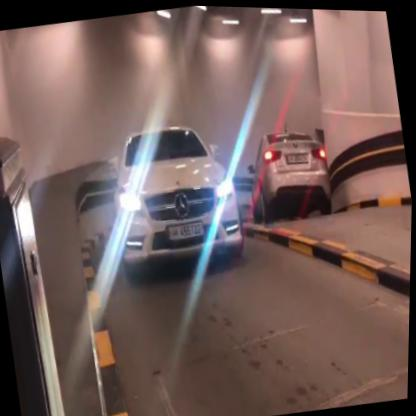np: (165, 217, 207, 241), (284, 146, 313, 166)
